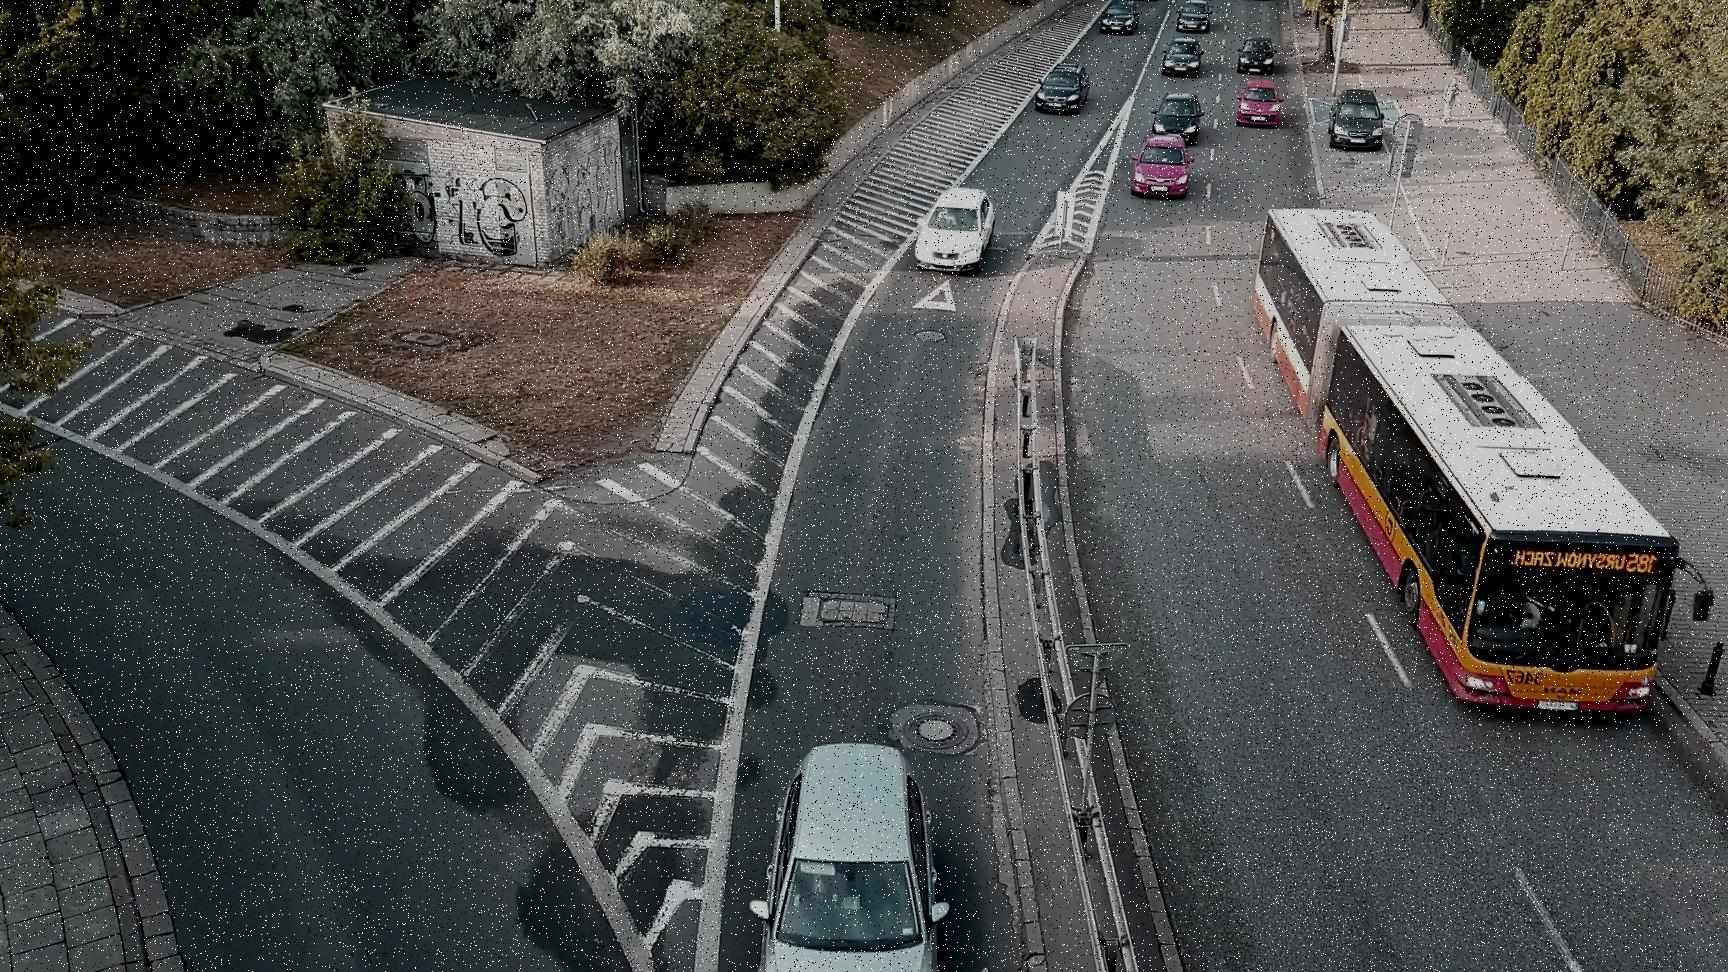bus: (1226, 188, 1704, 720)
car: (732, 728, 958, 972), (910, 176, 997, 277), (1119, 129, 1205, 204), (1323, 76, 1391, 158), (1033, 53, 1099, 121), (1149, 87, 1209, 145), (1234, 76, 1285, 129), (1156, 32, 1209, 82), (1232, 32, 1285, 80), (1095, 0, 1144, 39), (1170, 0, 1227, 31)
